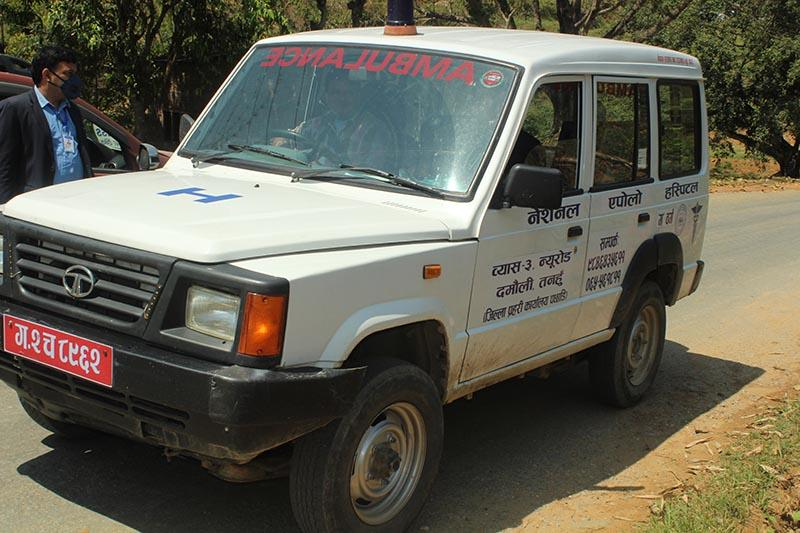ambulance: (0, 0, 711, 533)
